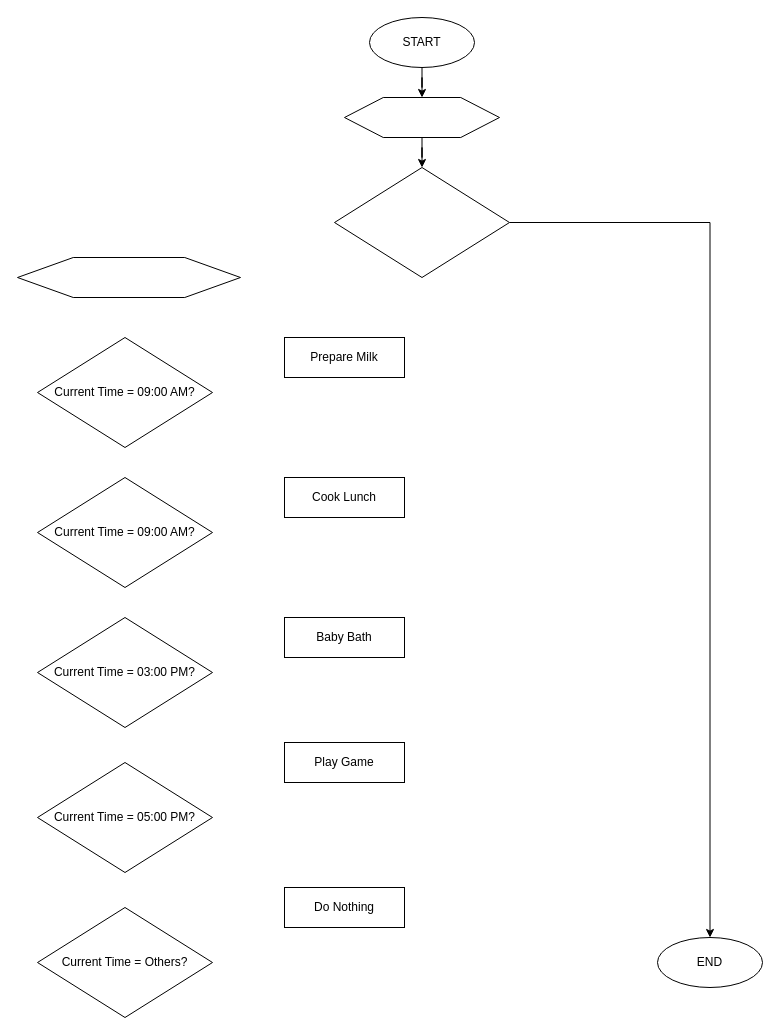
The diagram is 780 pixels wide and 1035 high, and some of its shapes have lost their labels. The box of each missing label's shape, as (x1, y1, x2, y2) in pixels:
Current Time = Get Current Time: (16, 256, 240, 298)
Task Completed = No: (344, 96, 500, 138)
Task Completed = Yes?: (334, 166, 510, 278)
